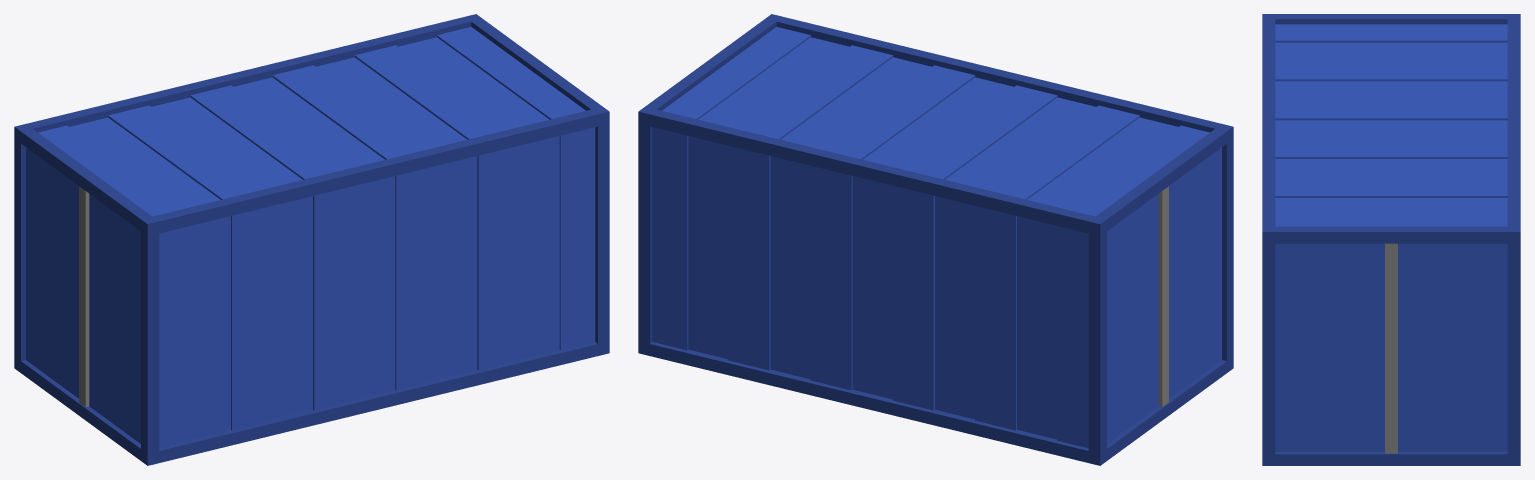
File: container.fbx
3 renders of one model, left to right at view 1: azimuth 30°, elevation 25°; view 2: azimuth 150°, elevation 25°; view 3: azimuth 270°, elevation 25°, orthographic. The views are drawn at different scales.
Visible parts, largest first — view 1: container; view 2: container; view 3: container.
Part boxes in pixels (x1,y1,x2,y2): container: (14,14,609,465); container: (638,14,1233,465); container: (1262,14,1520,465).
Bounding box in the file's own units: 200 × 100 × 100.
1 material, 1 textured.
